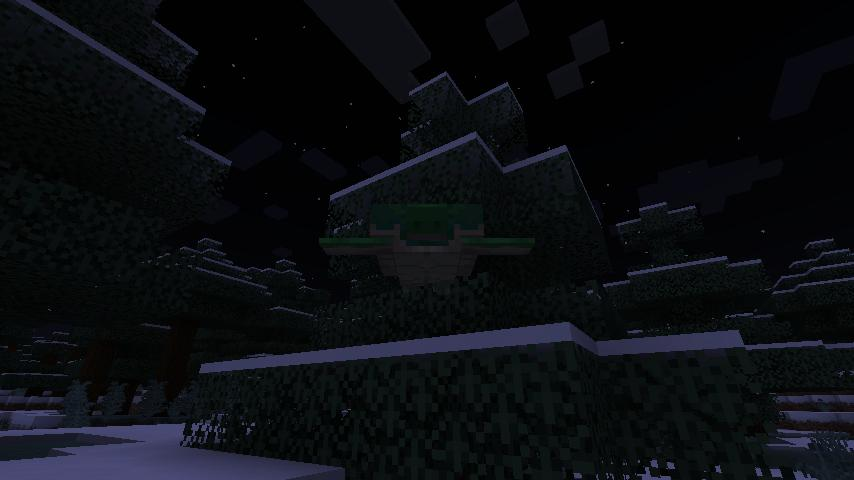turtle: (318, 200, 536, 292)
